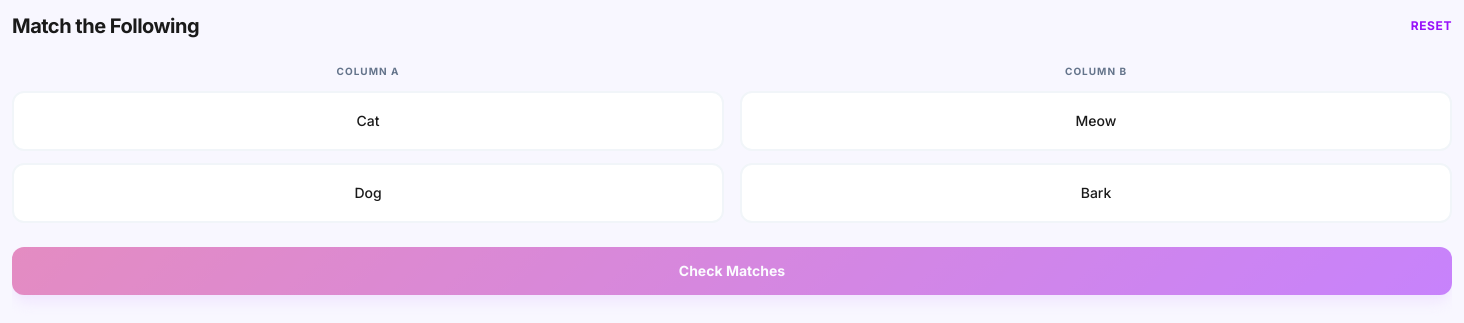
Test case: MatchCard › disables 'Check Matches' until all pairs are matched
Expected: the button "Check Matches" is disabled, [12,247,1452,295]
Click the button "Cat". click: point(368, 121)
box: [12,91,724,151]
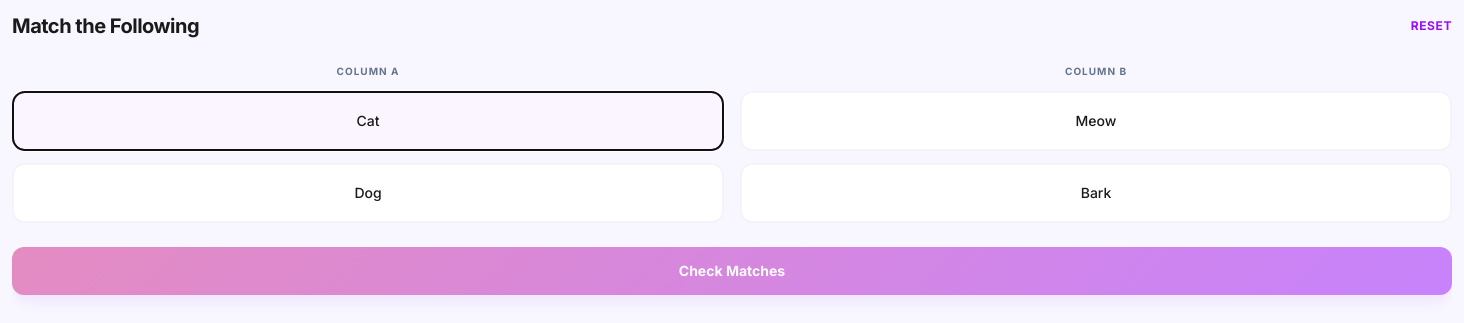
Click the button "Meow". click: point(1096, 121)
box: [740,91,1452,151]
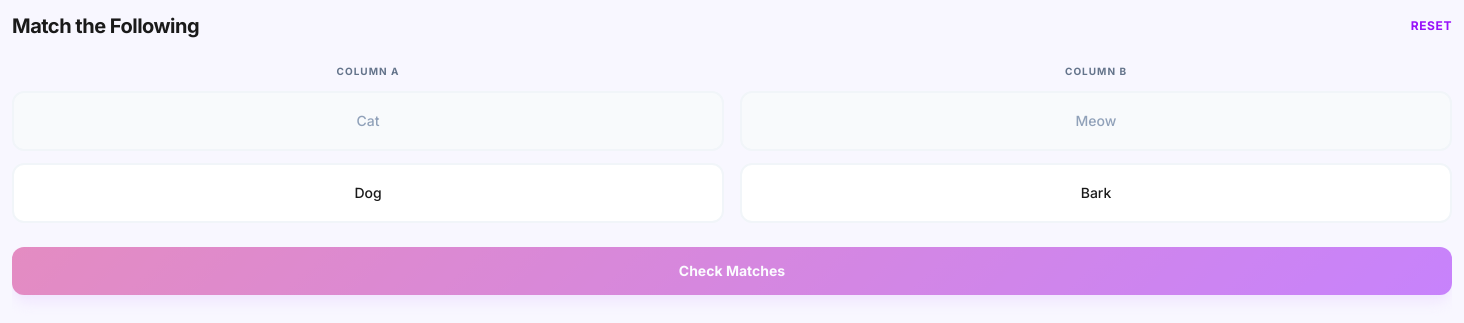
Expected: the button "Check Matches" is disabled, [12,247,1452,295]
Click the button "Dog". click: point(368, 193)
box: [12,163,724,223]
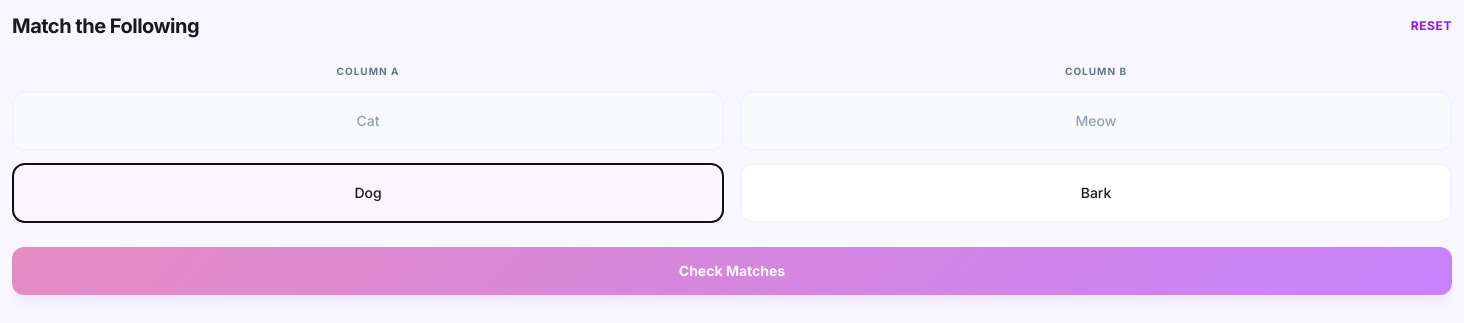
Click the button "Bark". click: point(1096, 193)
box: [740,163,1452,223]
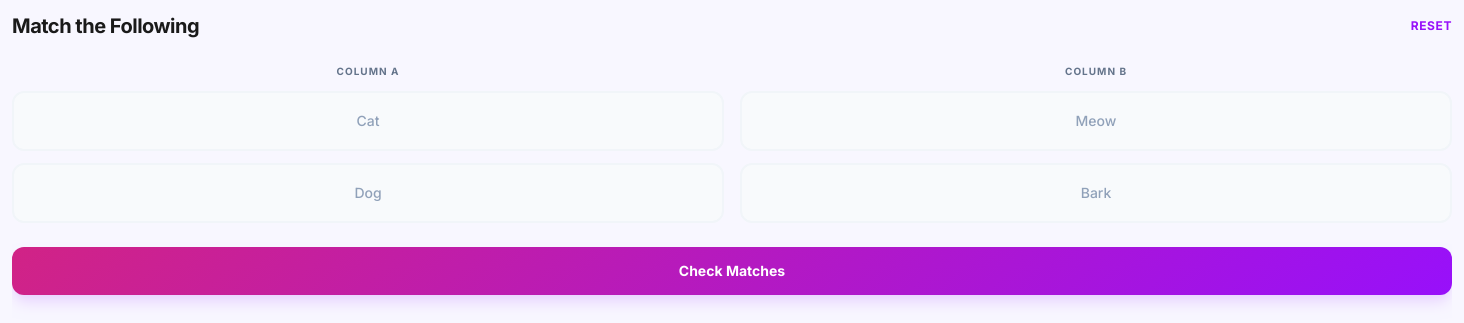
Expected: the button "Check Matches" is enabled, [12,247,1452,295]
